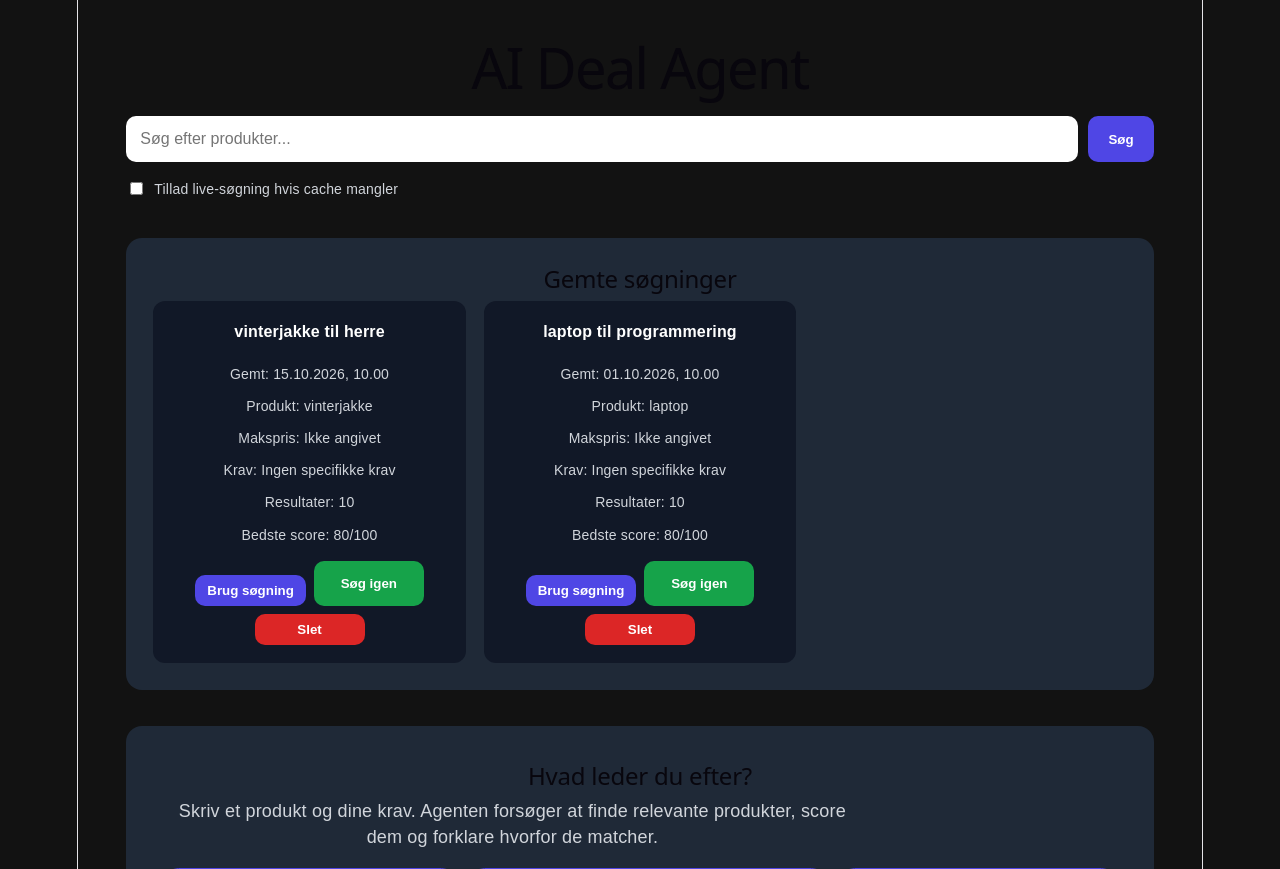
Test: App › lists saved searches newest first, runs them again and deletes them
Expected: the headings read "vinterjakke til herre", "laptop til programmering", in this order, [234,323,385,340]; [543,323,737,340]
Click the button "Søg igen" below "15.10.2026, 10.00" at point(369, 583), box [314,561,424,606]
(page scrolled)
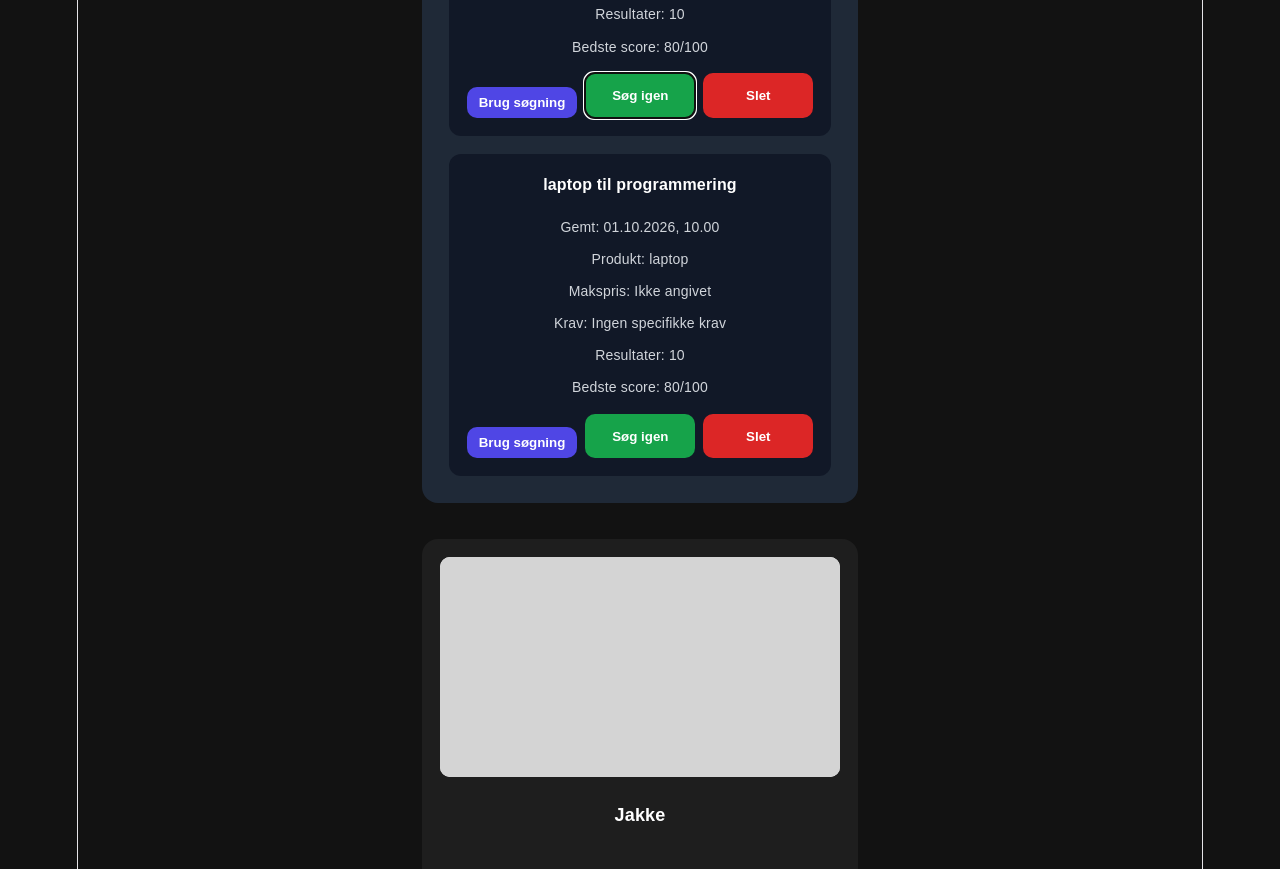
Expected: the heading "Jakke" is shown, [614,805,666,825]
Click the button "Slet" below "01.10.2026, 10.00" at point(758, 436), box [703,414,813,458]
(page scrolled)
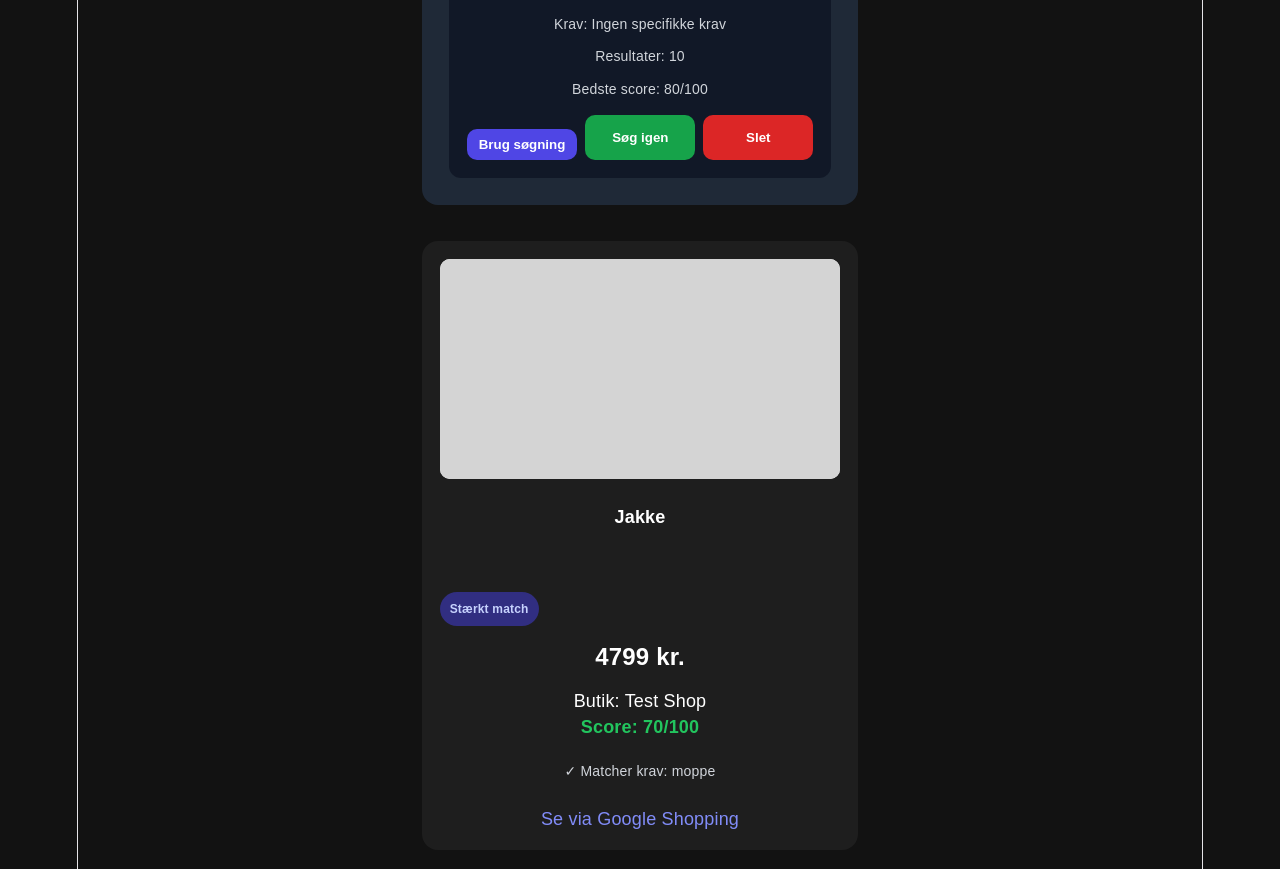
Now the heading "laptop til programmering" is gone
